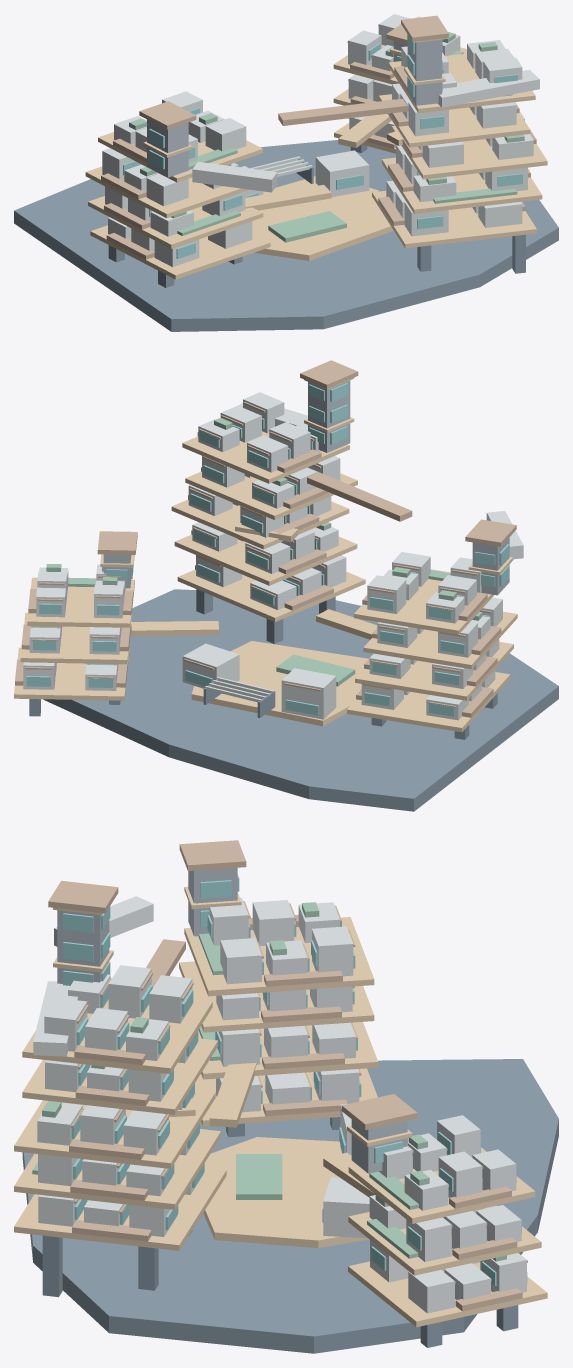
3 views of the same model, one above another, from view 1: azimuth 30°, elevation 25°; view 2: azimuth 150°, elevation 25°; view 3: azimuth 270°, elevation 25° (orthographic). The views are drawn at different scales.
Parts seen in each view (by area): view 1: INHABITED CIVIC ATRIUM; view 2: INHABITED CIVIC ATRIUM; view 3: INHABITED CIVIC ATRIUM.
Part boxes in pixels (x1,y1,x2,y2): INHABITED CIVIC ATRIUM: (14,14,558,331); INHABITED CIVIC ATRIUM: (14,360,558,811); INHABITED CIVIC ATRIUM: (14,840,558,1353).
Size of the model in its own units: 318 by 180 by 258.
